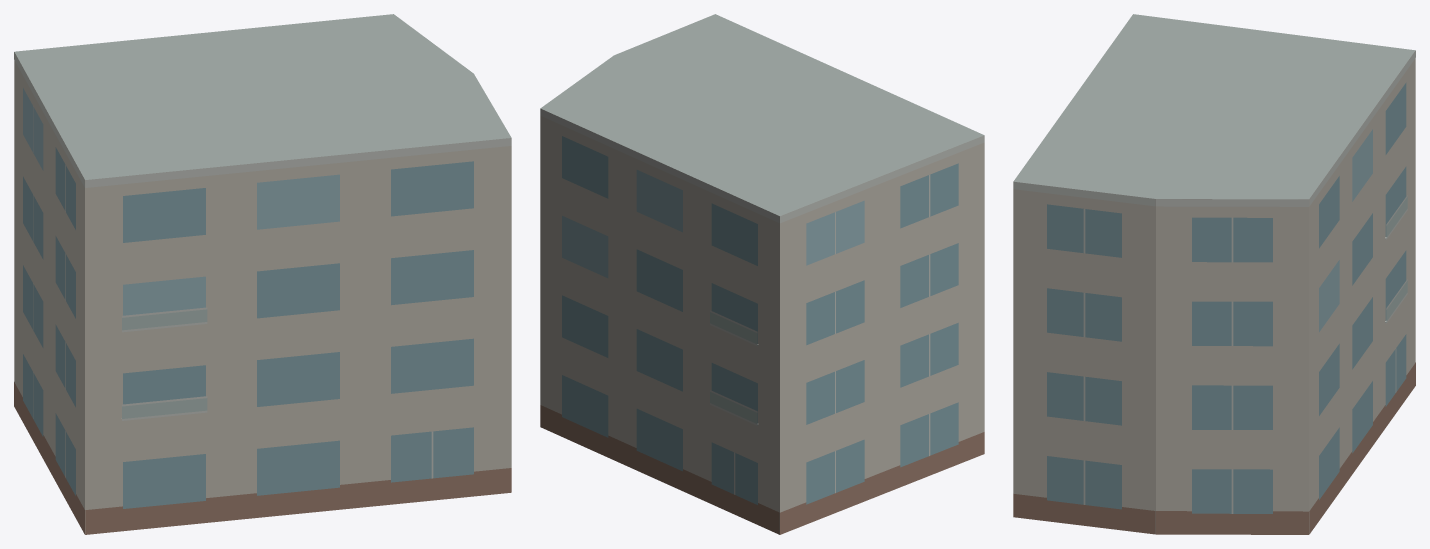
Rendered from survey-upis-32581569.glb.
3 renders of one model, left to right at view 1: azimuth 30°, elevation 25°; view 2: azimuth 150°, elevation 25°; view 3: azimuth 270°, elevation 25°, orthographic. The views are drawn at different scales.
Parts seen in each view (by area): view 1: survey-upis-32581569.tmp; view 2: survey-upis-32581569.tmp; view 3: survey-upis-32581569.tmp.
Boxes of the visible parts, x1,y1,x2,y2 form: survey-upis-32581569.tmp: (14, 14, 511, 534); survey-upis-32581569.tmp: (540, 14, 984, 534); survey-upis-32581569.tmp: (1013, 14, 1415, 534).
Bounding box in the file's own units: 12.93 × 10.9 × 11.86.
